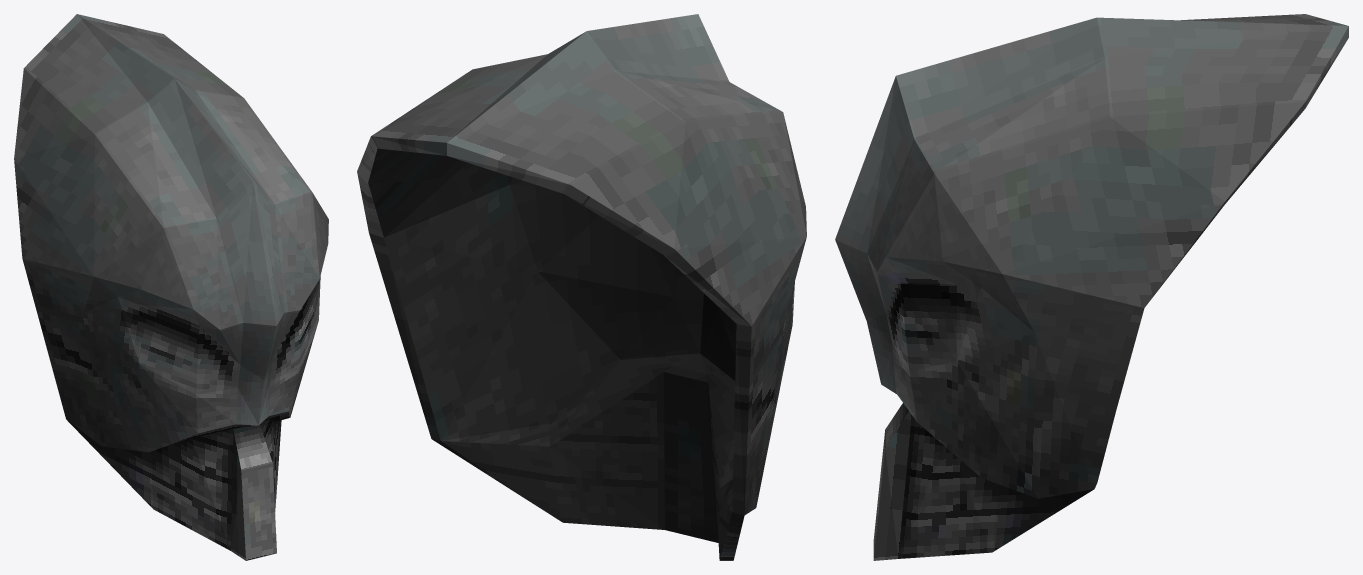
Rendered from giant.glb.
3 views of the same model, side by side, from view 1: azimuth 30°, elevation 25°; view 2: azimuth 150°, elevation 25°; view 3: azimuth 270°, elevation 25° (orthographic). The views are drawn at different scales.
Parts seen in each view (by area): view 1: material_02314666; view 2: material_03BB7996, material_02314666; view 3: material_02314666.
Part boxes in pixels (x1=…): material_02314666: x1=14, y1=14, x2=328, y2=560; material_03BB7996: x1=368, y1=148, x2=736, y2=559; material_02314666: x1=357, y1=14, x2=806, y2=560; material_02314666: x1=835, y1=14, x2=1348, y2=560.
Size of the model in its own units: 19.11 by 28.25 by 24.65.
Materials: 2 (2 with a texture image).
